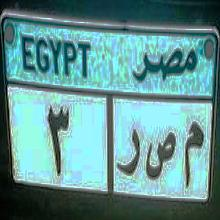3: (45, 99, 71, 175)
meem: (180, 116, 203, 193)
raa: (115, 122, 140, 184)
saad: (144, 124, 175, 186)
